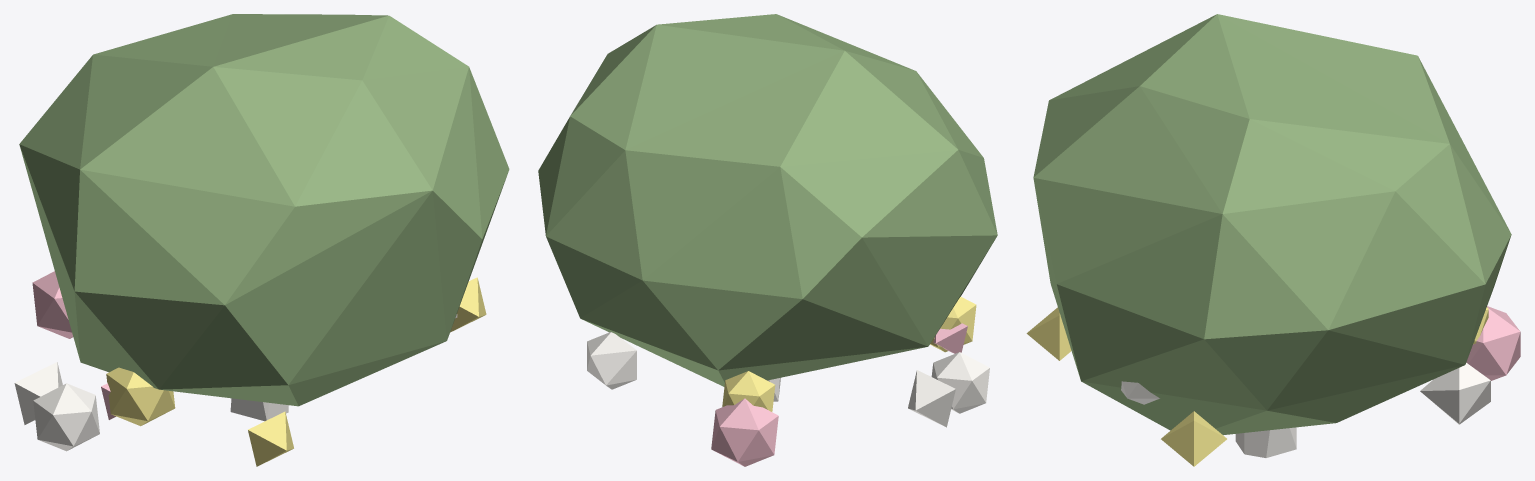
Rendered from 50-Vegetacion_arbusto_floral.glb.
3 views of the same model, side by side, from view 1: azimuth 30°, elevation 25°; view 2: azimuth 150°, elevation 25°; view 3: azimuth 270°, elevation 25° (orthographic). The views are drawn at different scales.
Parts seen in each view (by area): view 1: SM_ArbustoFloral_M_ArbustoFloral_Hojas, SM_ArbustoFloral_M_Flor_Amarillo, SM_ArbustoFloral_M_Flor_Blanco, SM_ArbustoFloral_M_Flor_Rosa, SM_ArbustoFloral_M_ArbustoFloral_Tallo; view 2: SM_ArbustoFloral_M_ArbustoFloral_Hojas, SM_ArbustoFloral_M_Flor_Blanco, SM_ArbustoFloral_M_Flor_Rosa, SM_ArbustoFloral_M_Flor_Amarillo; view 3: SM_ArbustoFloral_M_ArbustoFloral_Hojas, SM_ArbustoFloral_M_Flor_Amarillo, SM_ArbustoFloral_M_Flor_Blanco, SM_ArbustoFloral_M_Flor_Rosa, SM_ArbustoFloral_M_ArbustoFloral_Tallo.
Boxes of the visible parts, x1,y1,x2,y2 form: SM_ArbustoFloral_M_ArbustoFloral_Hojas: (19, 14, 509, 406); SM_ArbustoFloral_M_Flor_Amarillo: (106, 277, 486, 466); SM_ArbustoFloral_M_Flor_Blanco: (14, 314, 457, 451); SM_ArbustoFloral_M_Flor_Rosa: (32, 271, 115, 419); SM_ArbustoFloral_M_ArbustoFloral_Tallo: (230, 398, 288, 421); SM_ArbustoFloral_M_ArbustoFloral_Hojas: (538, 14, 997, 386); SM_ArbustoFloral_M_Flor_Blanco: (587, 332, 989, 427); SM_ArbustoFloral_M_Flor_Rosa: (711, 323, 967, 466); SM_ArbustoFloral_M_Flor_Amarillo: (722, 296, 976, 411); SM_ArbustoFloral_M_ArbustoFloral_Hojas: (1033, 14, 1511, 435); SM_ArbustoFloral_M_Flor_Amarillo: (1026, 307, 1488, 466); SM_ArbustoFloral_M_Flor_Blanco: (1121, 363, 1490, 424); SM_ArbustoFloral_M_Flor_Rosa: (1466, 306, 1520, 380); SM_ArbustoFloral_M_ArbustoFloral_Tallo: (1235, 427, 1296, 457).
Bounding box in the file's own units: 1.26 × 0.9925 × 1.12.
